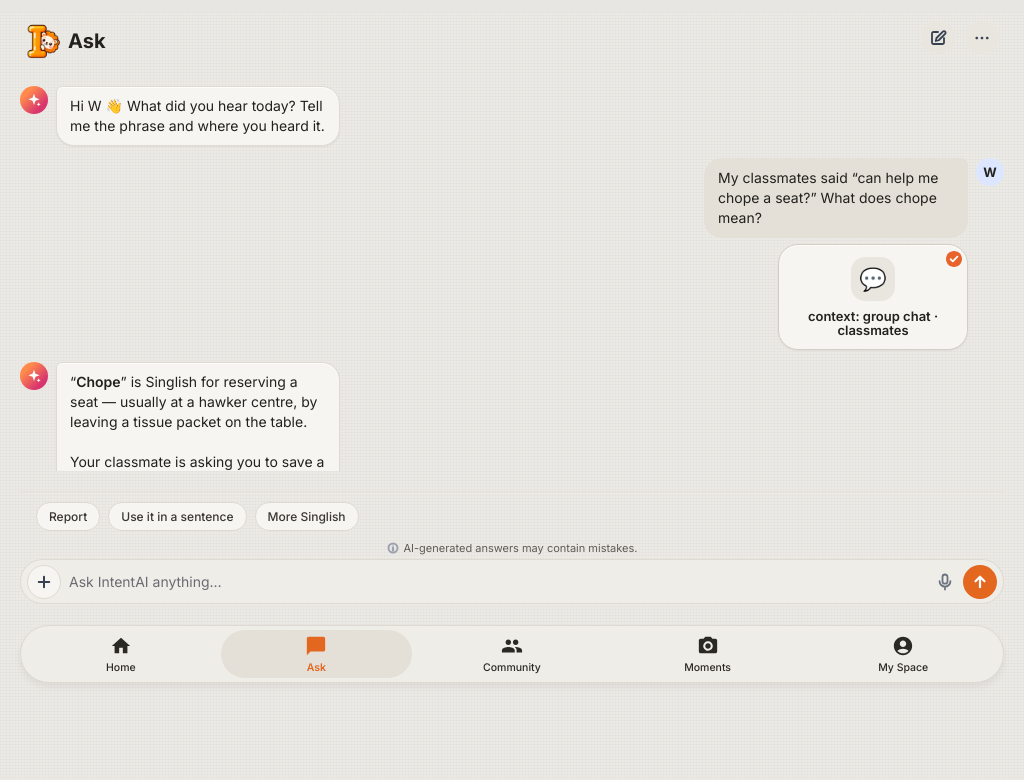
Test case: New chat clears the conversation, and Undo brings it back
The image size is (1024, 780).
Click the button named "New chat" at [938, 38], box [921,21,955,55]
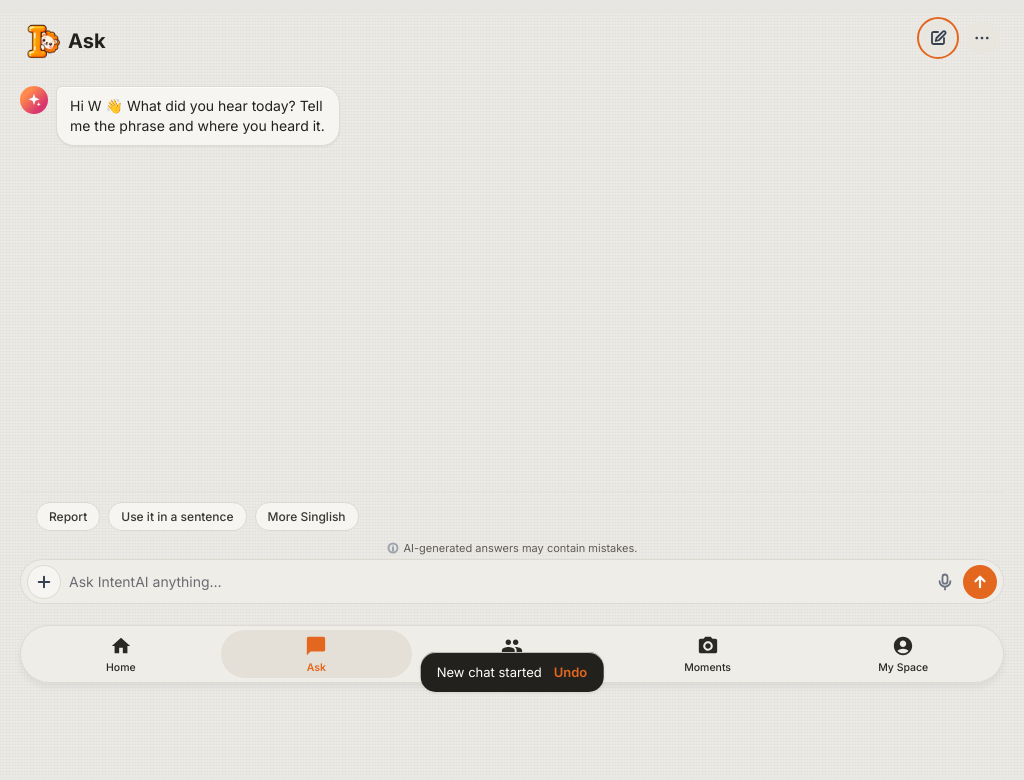
Check: the text "What did you hear today?" is shown, box [70,97,325,134]
Click the button "Undo" at [570, 672], box [554,660,587,684]
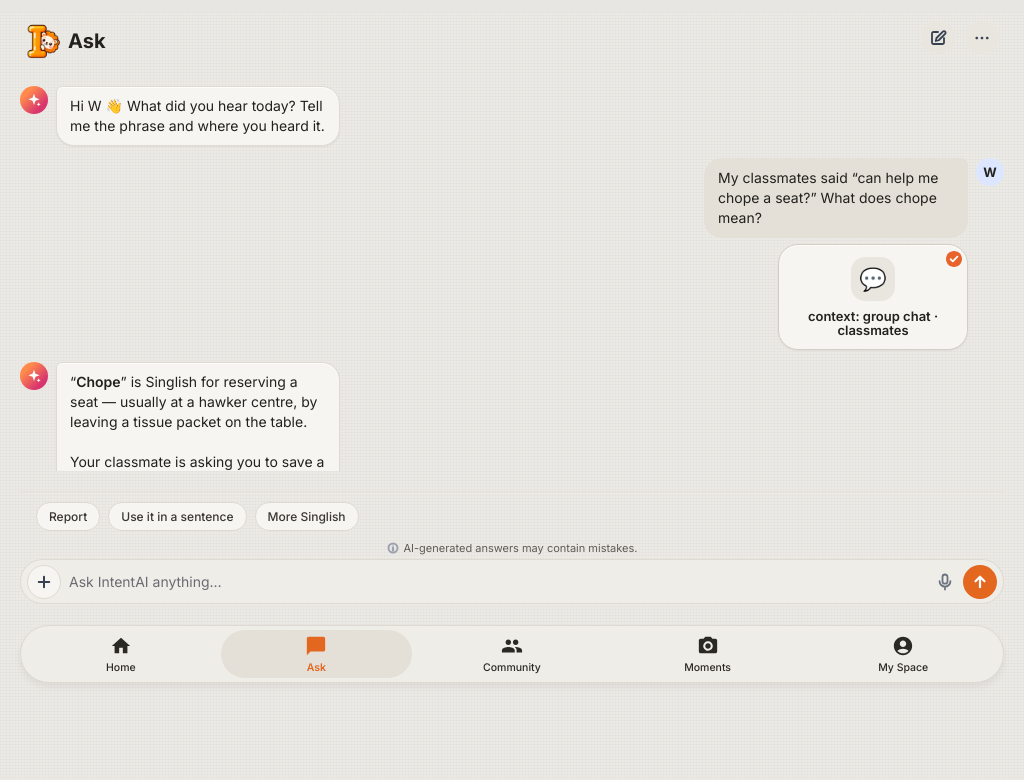
Check: the number of elements named "IntentAI answer" is 1, box [20,362,340,471]
